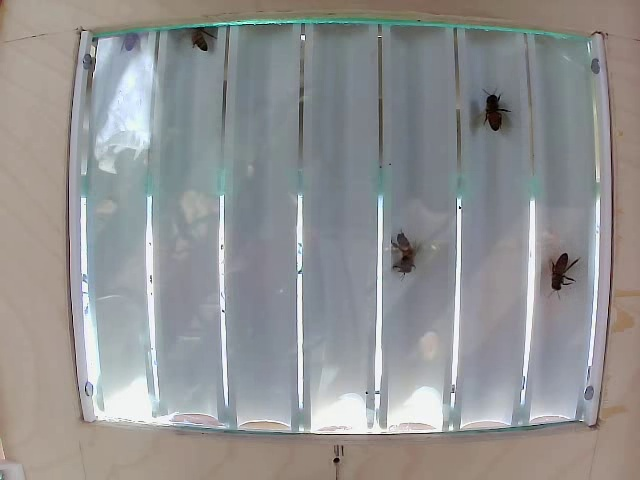bee: (546, 249, 583, 298), (477, 81, 510, 135), (391, 230, 416, 278), (185, 26, 214, 53)
